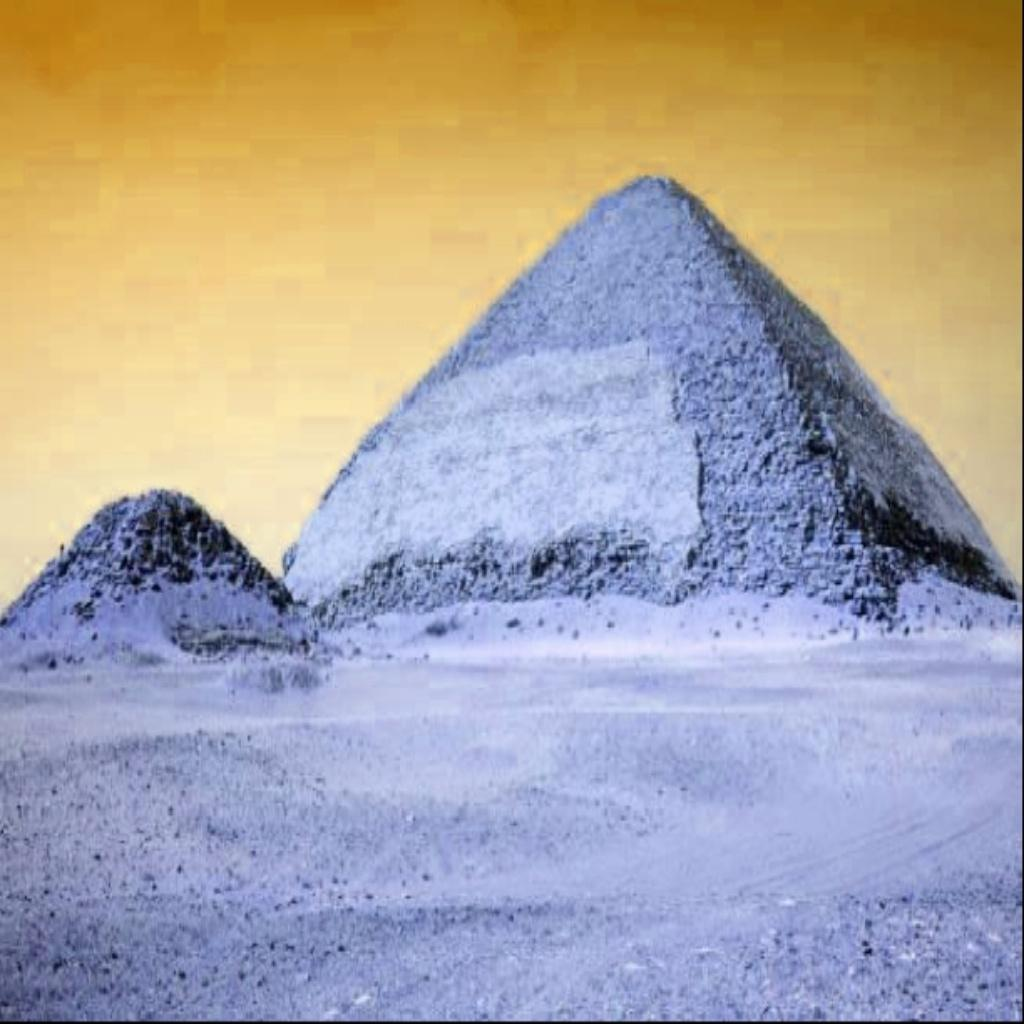Bent Pyramid of King Sneferu: (278, 168, 1018, 638)
